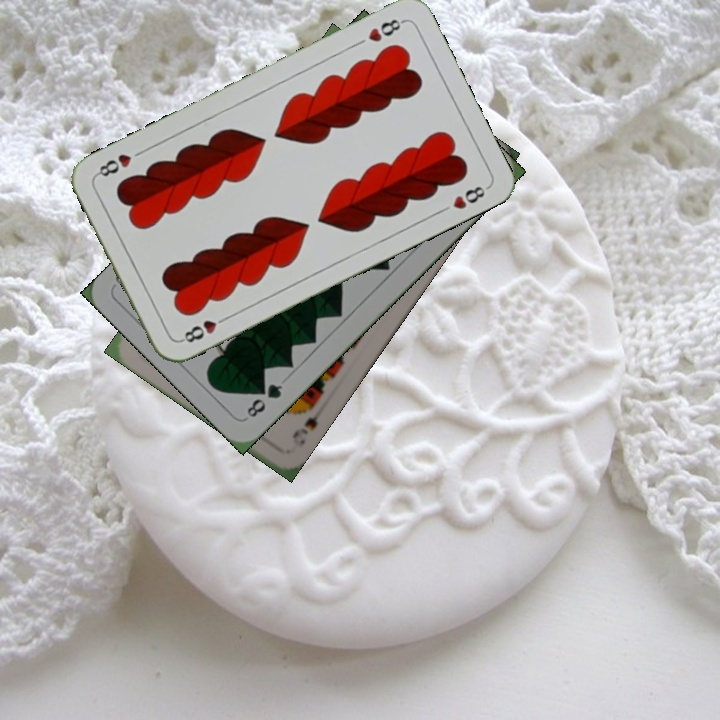G8: (242, 379, 286, 420)
H8: (176, 311, 231, 346), (363, 15, 407, 45)
S9: (288, 397, 328, 449)
